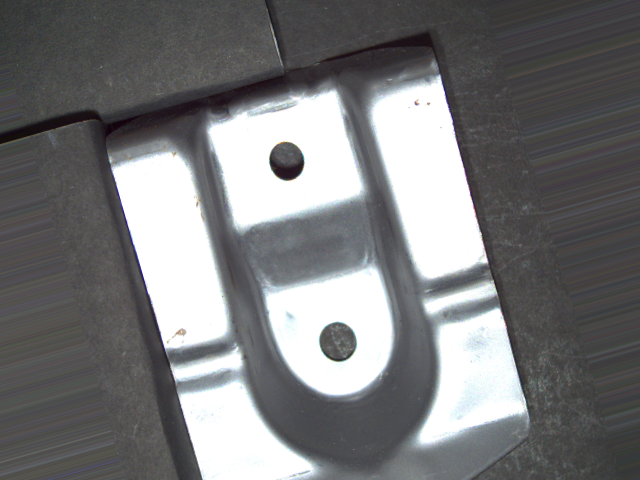defect: (316, 318, 359, 365)
